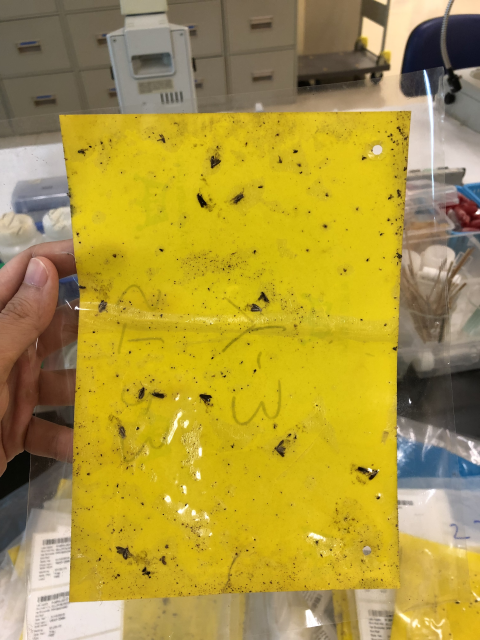DBM: (113, 544, 134, 562), (208, 151, 223, 172), (232, 187, 248, 205), (247, 302, 265, 316), (94, 298, 108, 314), (117, 424, 127, 440)
